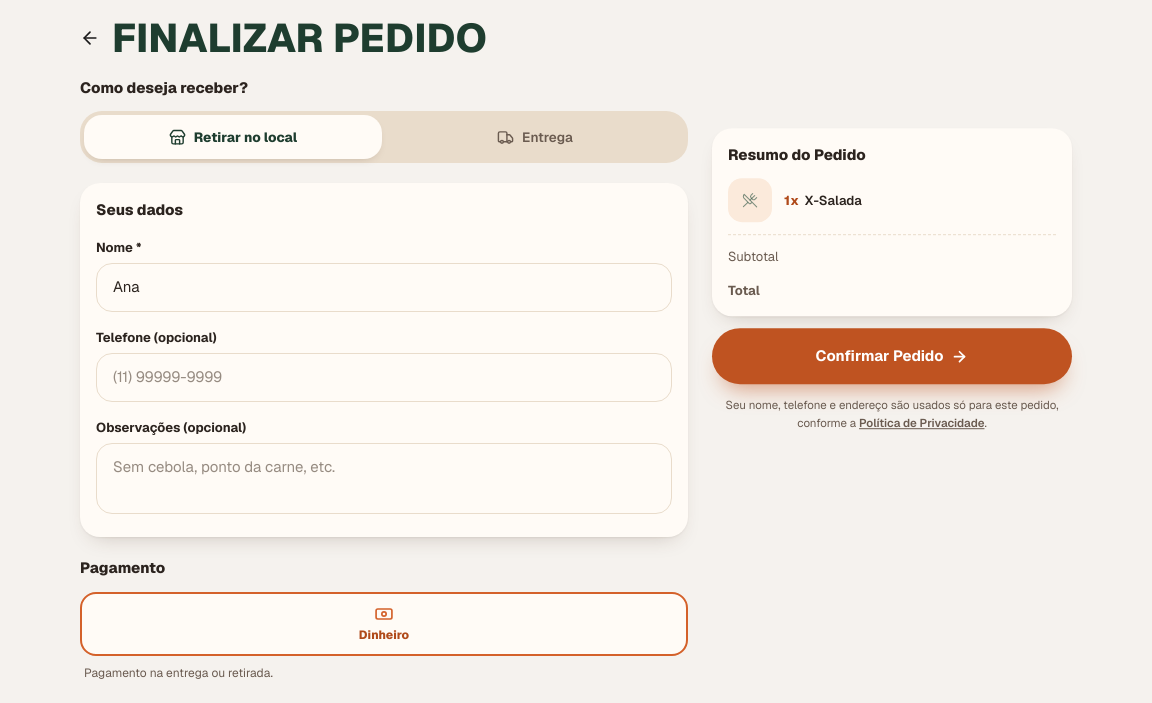
quando o servidor recusa o pedido › se o carrinho esvaziar, o aviso continua na tela
Expected: the heading "Finalizar Pedido" is shown, [112,20,487,57]
What coordinates should you click on to do the following:
click the button "Confirmar Pedido"
I would click on:
 (892, 356)
Its box is [712,328,1072,384].
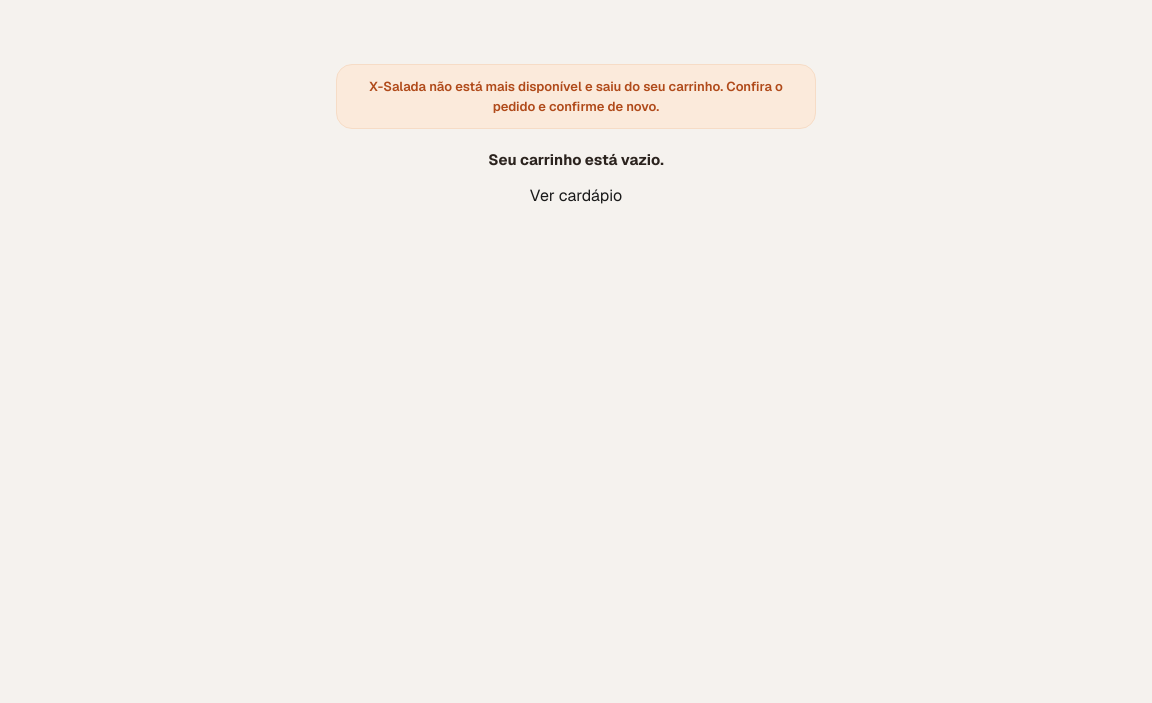
Expected: the text "Seu carrinho está vazio." is shown, [488,149,664,172]
Expected: the text "X-Salada não está mais disponível" is shown, [369,78,783,114]
